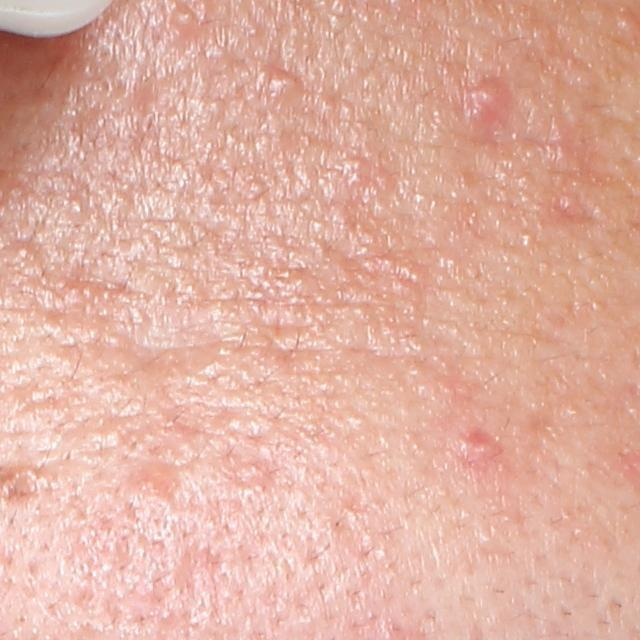comedo: (268, 71, 303, 102)
papule: (465, 74, 513, 122), (455, 425, 506, 463)
